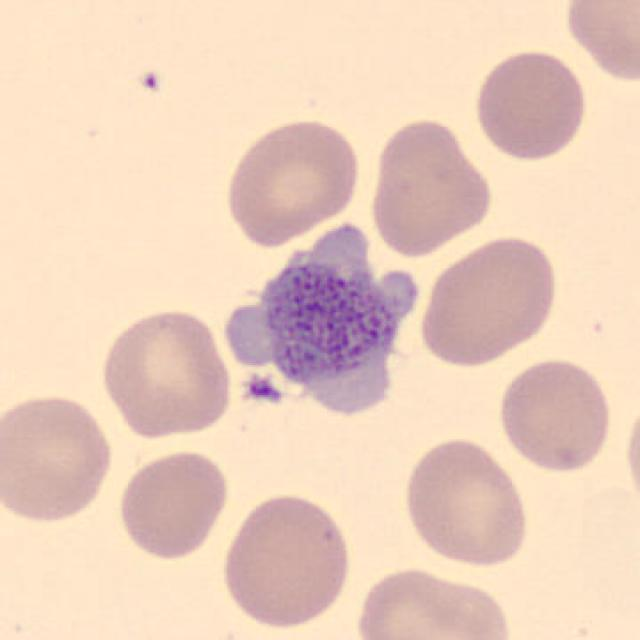Platelets: (217, 215, 430, 429)
RBC: (416, 231, 562, 368), (217, 488, 355, 632), (220, 112, 364, 248), (96, 303, 235, 443), (366, 113, 496, 259), (398, 432, 534, 569), (0, 387, 117, 527), (494, 354, 615, 476), (469, 46, 592, 162), (114, 446, 233, 562), (352, 564, 514, 640), (560, 0, 640, 86), (620, 388, 640, 518)
